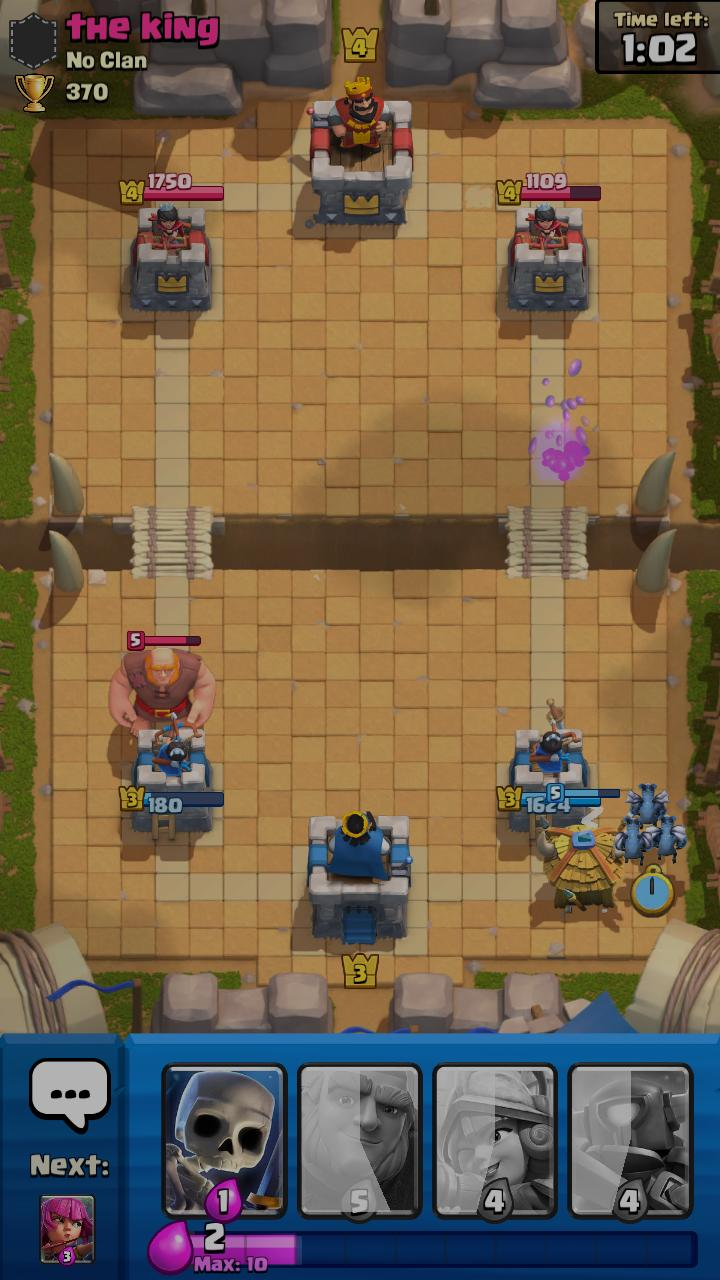ally: (537, 783, 625, 913), (626, 783, 671, 830), (646, 815, 688, 864), (614, 817, 653, 866)
enemy: (108, 631, 215, 738)
